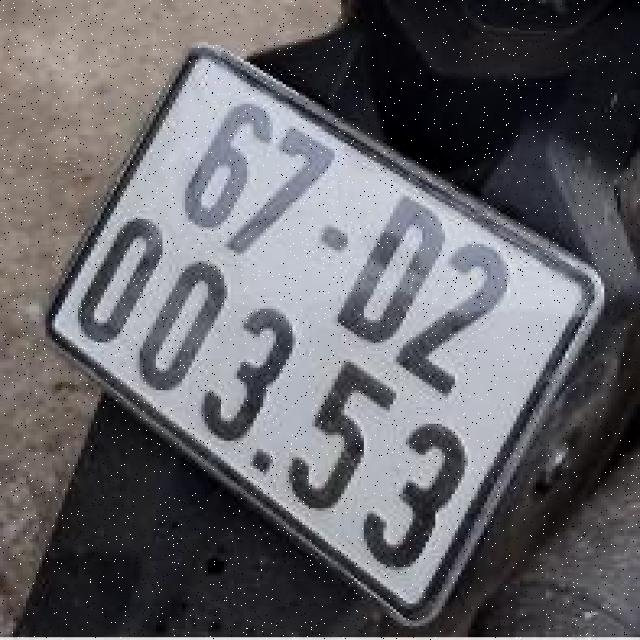0: (146, 248, 234, 406), (73, 207, 164, 336)
2: (427, 232, 512, 388)
3: (390, 410, 471, 592), (221, 298, 292, 458)
5: (286, 349, 390, 535)
6: (176, 94, 270, 243)
7: (221, 129, 335, 272)
D: (332, 187, 448, 338)
